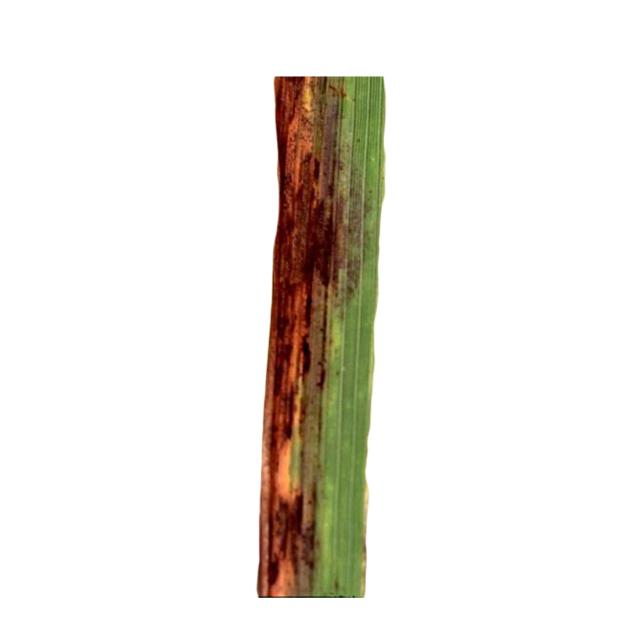Leaf scald: (216, 54, 473, 640)
